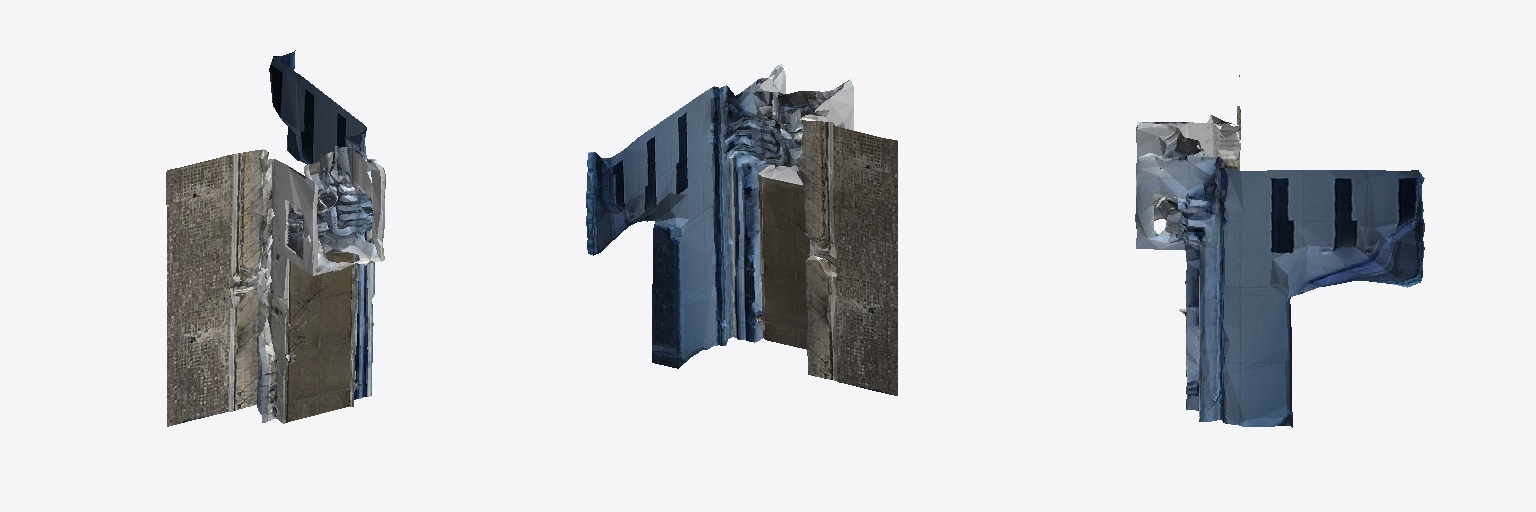
3 views of the same model, side by side, from view 1: azimuth 30°, elevation 25°; view 2: azimuth 150°, elevation 25°; view 3: azimuth 270°, elevation 25° (orthographic).
Visible parts, largest first — view 1: obj_0; view 2: obj_0; view 3: obj_0.
Part boxes in pixels (bbox=[...]): obj_0: bbox=[166, 50, 385, 426]; obj_0: bbox=[586, 64, 897, 395]; obj_0: bbox=[1135, 75, 1424, 427].
Size of the model in its own units: 20.08 by 22.57 by 23.
1 materials, 1 textured.